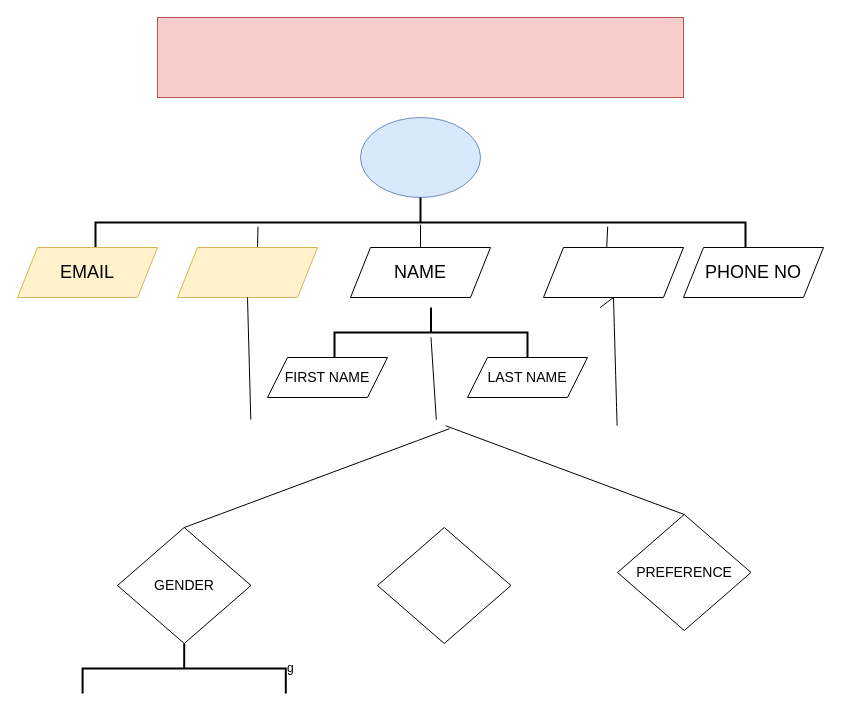
Image size: 841x712. Some labels were removed from this diagram. Here are the shapes that lost their labels. From the top down, the centre of each, then its label:
pixel 420 57: REGISTRATION FORM FOR PAINTING COMPETATION
pixel 420 157: START
pixel 247 272: PASSWORD
pixel 613 272: AGE
